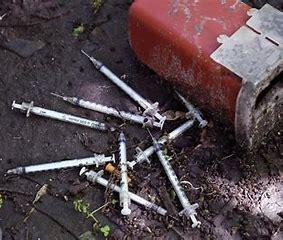Syringe: (142, 129, 204, 232), (5, 95, 122, 136), (6, 148, 119, 176), (118, 130, 135, 218), (96, 56, 98, 93)
